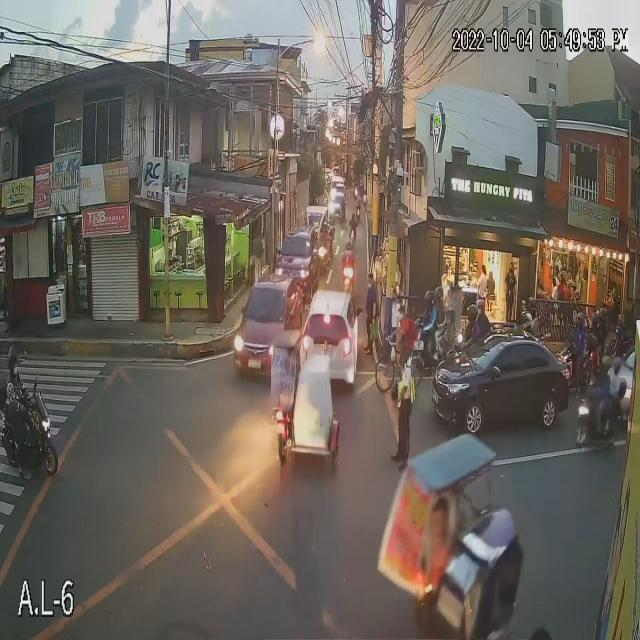helmet: (5, 345, 22, 384), (570, 311, 588, 333), (594, 307, 609, 332), (520, 307, 534, 330), (433, 284, 447, 305), (423, 289, 434, 315), (610, 355, 623, 375), (476, 297, 488, 315), (466, 305, 478, 323), (601, 354, 612, 373), (529, 294, 540, 311), (345, 238, 354, 251), (350, 209, 358, 219)
motorcycle: (0, 388, 60, 479), (576, 388, 624, 447), (394, 325, 453, 363), (557, 340, 595, 382), (338, 263, 356, 293), (345, 230, 359, 244)
rider: (0, 341, 32, 427), (594, 351, 615, 404), (470, 289, 493, 335), (430, 282, 450, 333), (569, 307, 588, 359), (524, 293, 544, 338), (418, 287, 435, 339), (594, 302, 613, 343), (460, 305, 480, 343), (612, 354, 625, 399), (341, 238, 358, 271), (518, 308, 533, 339), (349, 211, 358, 233)
